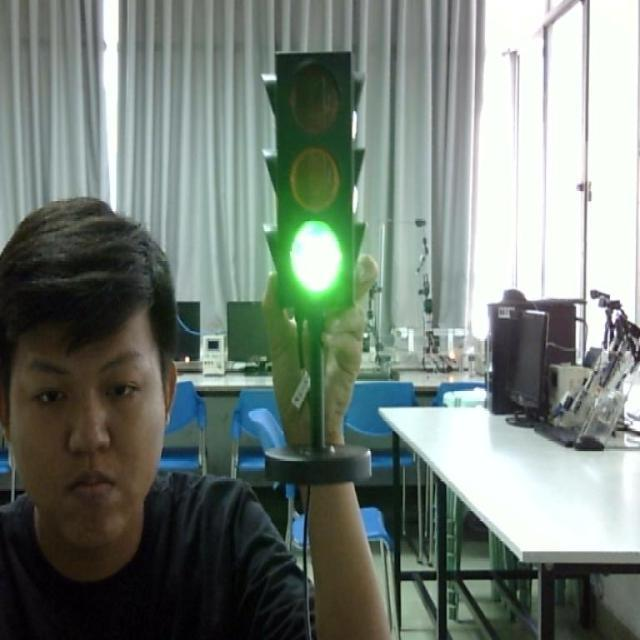green light: (285, 214, 357, 306)
